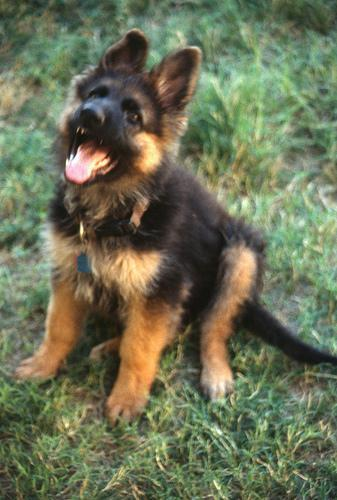German_shepherd: (15, 25, 335, 431)
